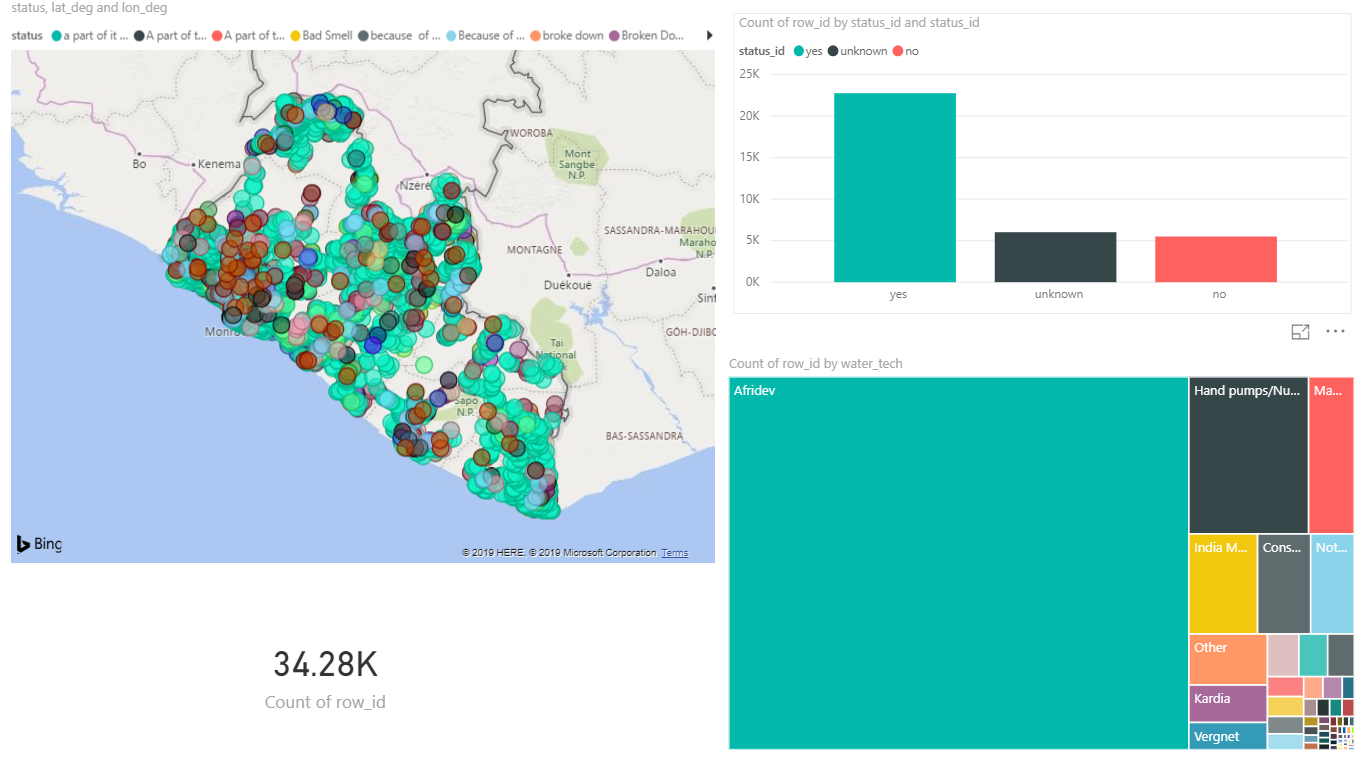

The page's visual inventory and layout, read from the dashboard file:
{"tool":"powerbi","page":{"name":"Page 1","canvas":[1280,720],"ordinal":0},"visuals":[{"type":"map","fields":{"Y":["liberia-flow-data.lat_deg"],"X":["liberia-flow-data.lon_deg"],"Series":["liberia-flow-data.status"]},"box":[9.6,0,660.8,527.3],"z":1},{"type":"columnChart","fields":{"Series":["liberia-flow-data.status_id"],"Y":["CountNonNull(liberia-flow-data.row_id)"],"Category":["liberia-flow-data.status_id"]},"box":[681.5,13.8,572.7,278.1],"z":2},{"type":"treemap","fields":{"Group":["liberia-flow-data.water_tech"],"Values":["CountNonNull(liberia-flow-data.row_id)"]},"box":[673.2,329,587.8,370.3],"z":3},{"type":"card","fields":{"Values":["CountNonNull(liberia-flow-data.row_id)"]},"box":[79.8,527.3,450.2,192.7],"z":6}]}

Visuals, with their boxes in screenshot pixels (x1, y1, x2, y2), scaled from the page's 1280x720 canvas onto the 1363x775 screenshot:
map - liberia-flow-data.lat_deg x liberia-flow-data.lon_deg: <region>10, 0, 714, 568</region>
columnChart - liberia-flow-data.status_id x CountNonNull(liberia-flow-data.row_id): <region>726, 15, 1336, 314</region>
treemap - liberia-flow-data.water_tech x CountNonNull(liberia-flow-data.row_id): <region>717, 354, 1343, 753</region>
card - CountNonNull(liberia-flow-data.row_id): <region>85, 568, 564, 774</region>
